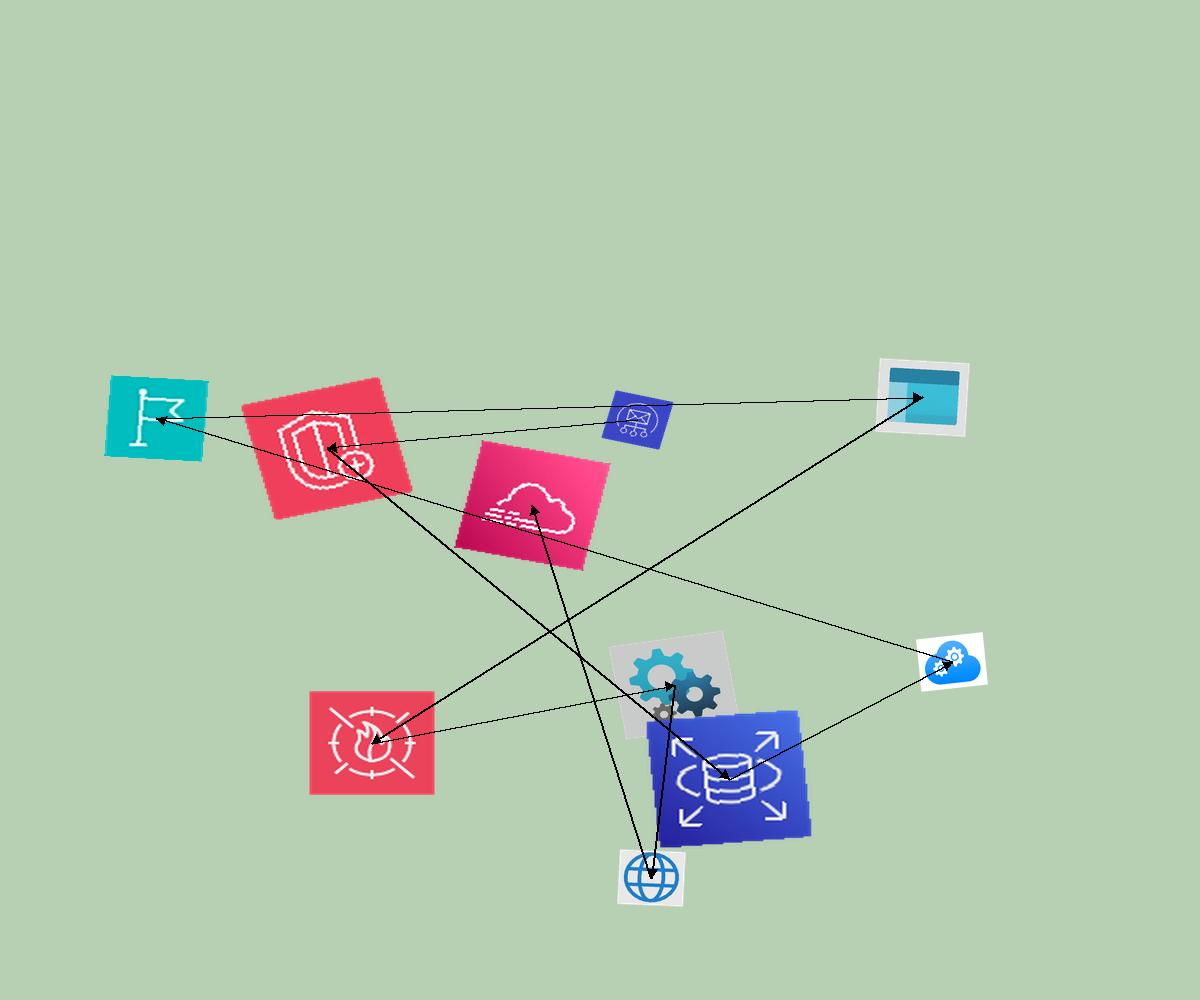AWS-CloudTrail: (454, 440, 611, 571)
AWS-RDS: (645, 709, 813, 849)
AWS-Region: (104, 375, 209, 462)
AWS-Shield: (240, 376, 414, 521)
AWS-Simple-Email-Service: (601, 390, 674, 450)
AWS-WAF: (308, 690, 436, 796)
Azure_api: (608, 630, 741, 740)
Azure_cloud_services: (916, 632, 988, 692)
Azure_http: (617, 849, 686, 907)
Azure_management-portal: (875, 358, 970, 437)
